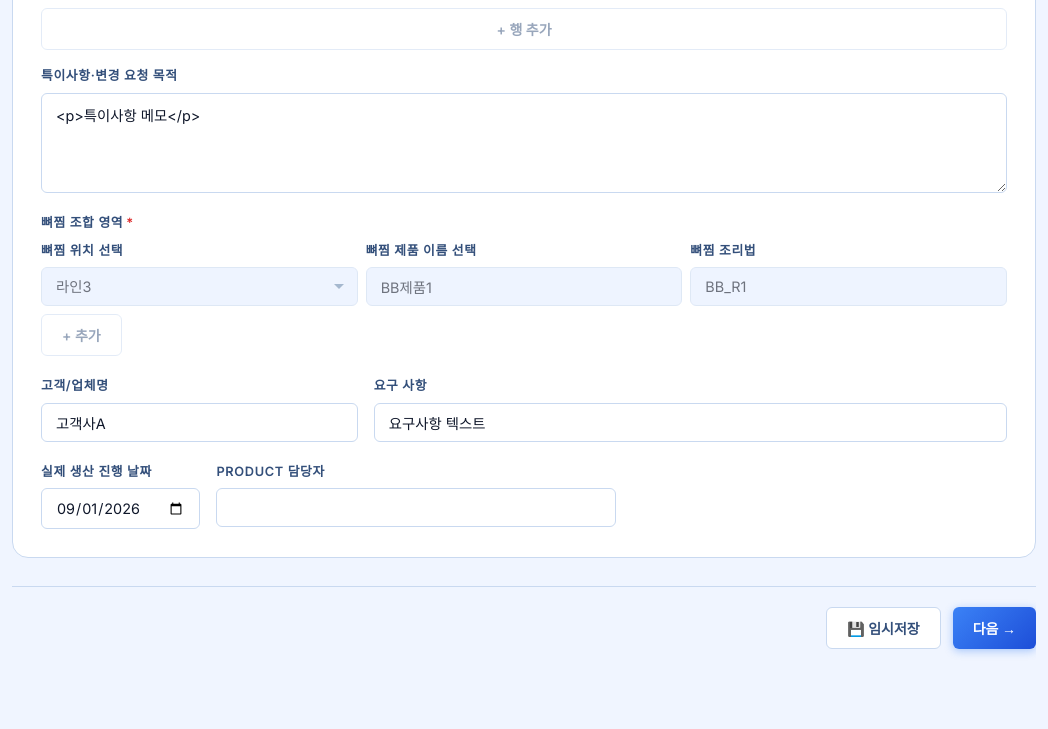
Test: Only MAP · MAP 삭제 — MAP 정보(2단계)가 마지막 단계 › Only MAP: MAP 정보 단계에서 다음 대신 상신 버튼이 나온다
(page scrolled)
Expected: the field showing "고객사A" below "고객/업체명" is shown, x1=41 y1=403 x2=358 y2=442
Click the button "다음 →": x=994, y=628 x1=953 y1=607 x2=1036 y2=649
(page scrolled)
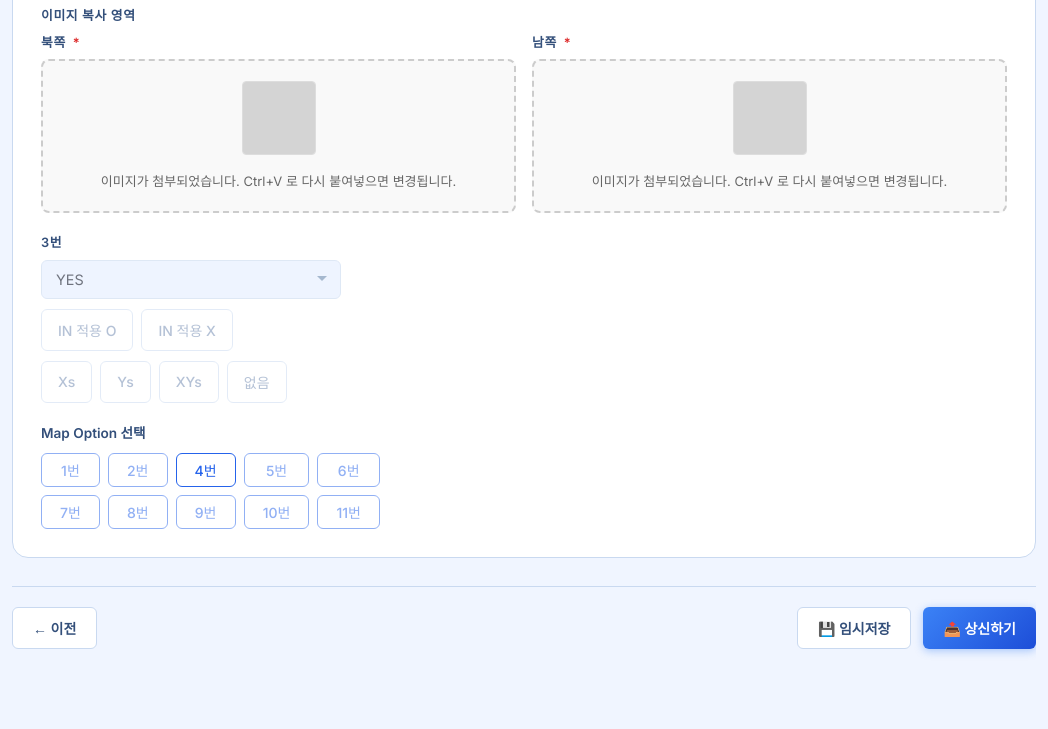
Now the button "📤 상신하기" is shown, box x1=924 y1=607 x2=1036 y2=649
